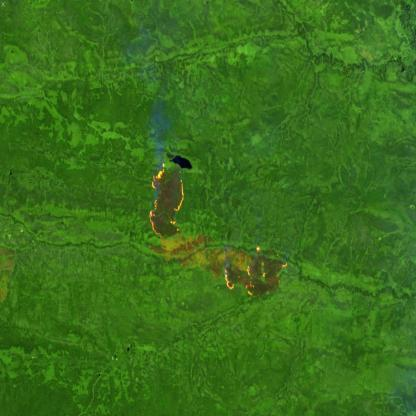fire: (223, 243, 289, 297), (148, 160, 186, 242)
